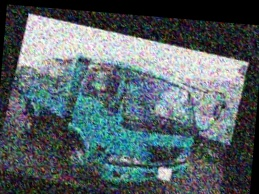truck: (4, 37, 213, 194)
